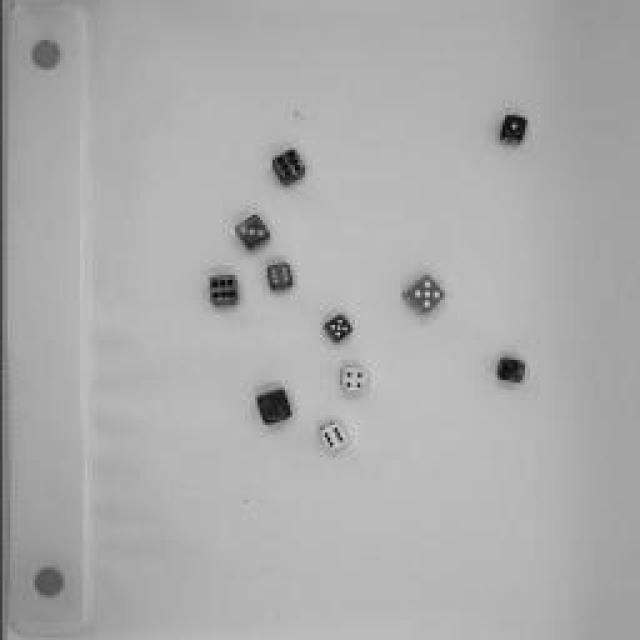dice_1: (498, 111, 528, 149)
dice_2: (252, 385, 292, 427)
dice_3: (232, 210, 272, 252)
dice_4: (335, 365, 365, 395)
dice_5: (396, 270, 449, 320), (494, 358, 528, 388), (320, 314, 352, 344)
dice_6: (265, 145, 310, 190), (312, 418, 348, 454), (206, 274, 239, 311), (263, 260, 295, 298)
